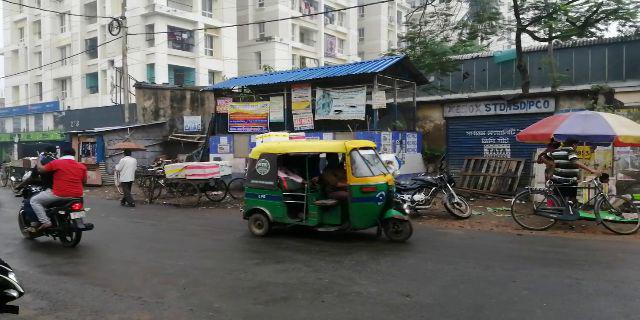Autorickshaw: (243, 144, 412, 242)
Cycle: (506, 183, 640, 234)
Motorbike: (11, 148, 88, 246)
